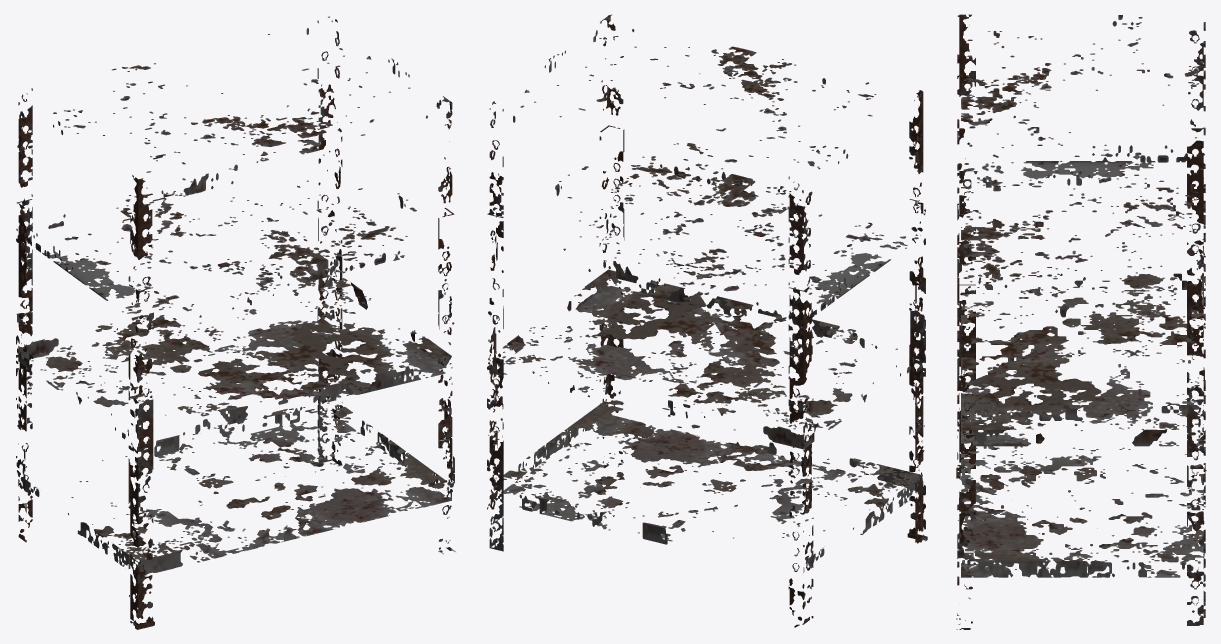
The model's file is metal_rack.obj.
3 renders of one model, left to right at view 1: azimuth 30°, elevation 25°; view 2: azimuth 150°, elevation 25°; view 3: azimuth 270°, elevation 25°, orthographic.
Parts seen in each view (by area): view 1: metal_plate_1, metal_plate_0, metal_plate_2, metal_pillar_1, metal_pillar_3, metal_plate_3, metal_pillar_4, metal_pillar_2; view 2: metal_plate_1, metal_plate_0, metal_plate_2, metal_pillar_3, metal_pillar_1, metal_pillar_4, metal_plate_3, metal_pillar_2; view 3: metal_plate_1, metal_plate_0, metal_plate_2, metal_pillar_3, metal_plate_3, metal_pillar_1, metal_pillar_4, metal_pillar_2.
Boxes of the visible parts, box(x1,y1,x2,y2) form: metal_plate_1: box(18, 270, 451, 439); metal_plate_0: box(18, 402, 451, 575); metal_plate_2: box(26, 161, 416, 322); metal_pillar_1: box(128, 175, 154, 629); metal_pillar_3: box(16, 88, 32, 542); metal_plate_3: box(18, 16, 449, 180); metal_pillar_4: box(317, 19, 342, 465); metal_pillar_2: box(438, 100, 455, 554); metal_plate_1: box(489, 269, 913, 449); metal_plate_0: box(494, 400, 922, 572); metal_plate_2: box(555, 156, 918, 316); metal_pillar_3: box(788, 176, 813, 627); metal_pillar_1: box(907, 90, 927, 543); metal_pillar_4: box(487, 101, 503, 551); metal_plate_3: box(494, 17, 876, 193); metal_pillar_2: box(599, 14, 624, 468); metal_plate_1: box(961, 273, 1203, 446); metal_plate_0: box(961, 405, 1203, 577); metal_plate_2: box(961, 145, 1203, 317); metal_pillar_3: box(1187, 22, 1206, 470); metal_plate_3: box(961, 15, 1203, 187); metal_pillar_1: box(956, 14, 975, 479); metal_pillar_4: box(1187, 166, 1205, 625); metal_pillar_2: box(956, 169, 975, 629).
Size of the model in its own units: 60 by 80.62 by 40.
